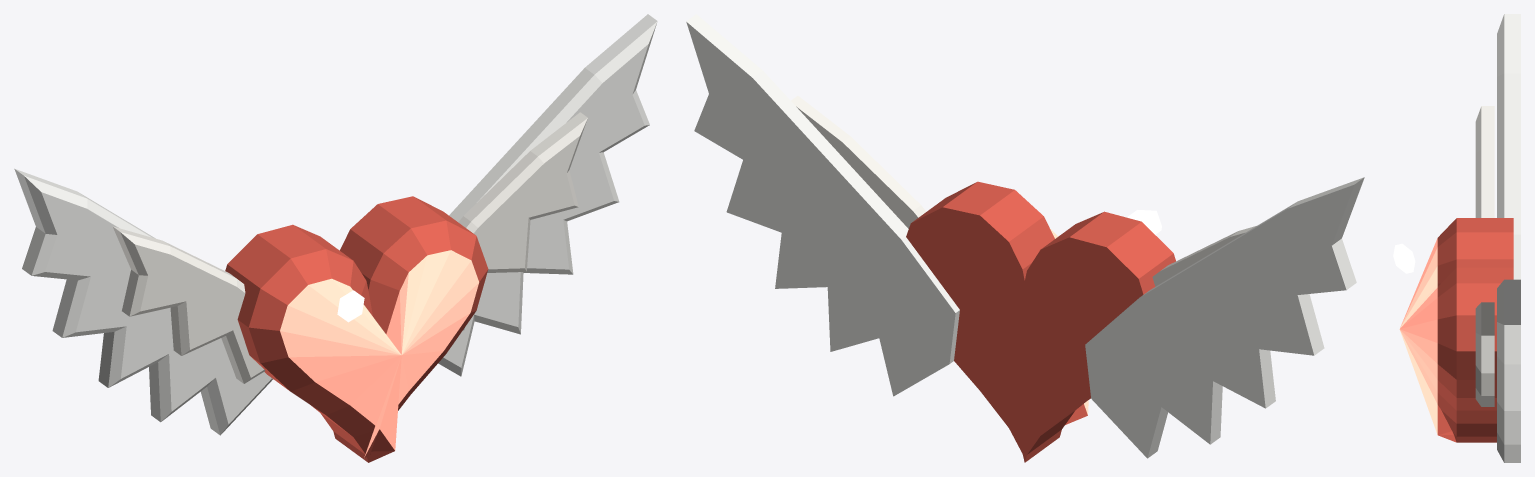
File: item_second_wind.glb
The picture shows the model from 3 angles, left to right: view 1: azimuth 30°, elevation 25°; view 2: azimuth 150°, elevation 25°; view 3: azimuth 270°, elevation 25°; orthographic projection. The views are drawn at different scales.
Parts seen in each view (by area): view 1: item_second_wind; view 2: item_second_wind; view 3: item_second_wind.
Part boxes in pixels (box(x1,y1,x2,y2)): item_second_wind: box(14, 14, 657, 462); item_second_wind: box(686, 14, 1364, 462); item_second_wind: box(1393, 14, 1520, 462).
Bounding box in the file's own units: 1.32 × 0.6861 × 0.2685.
